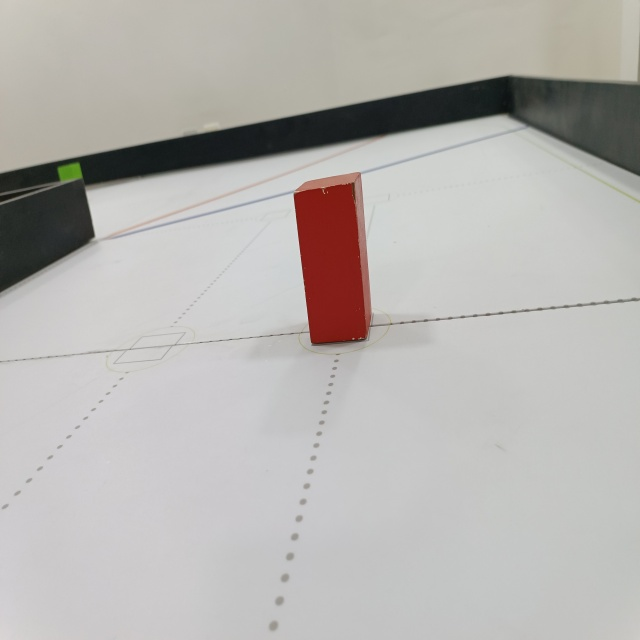blue line: (96, 128, 534, 240)
orange line: (98, 138, 373, 241)
red rectangular prism: (289, 172, 375, 345)
